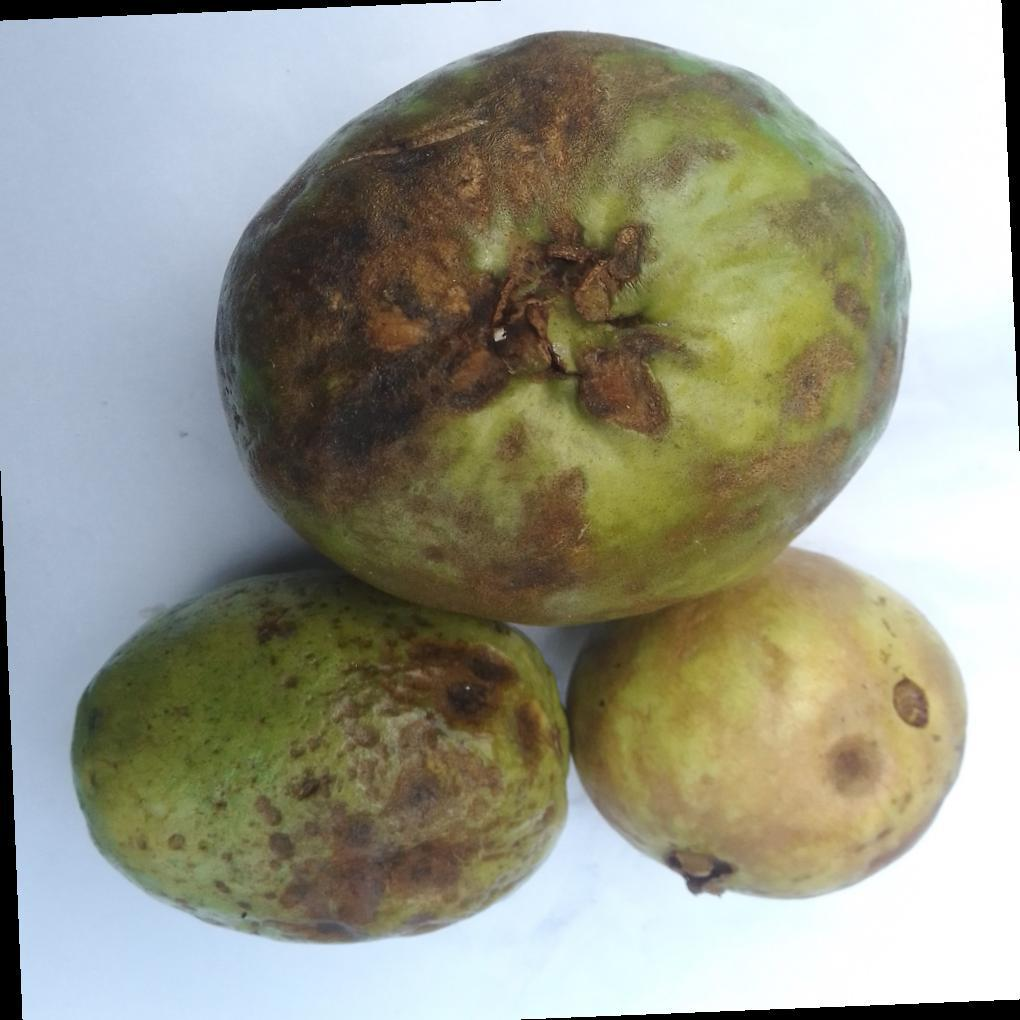FreshOrange: (69, 32, 968, 949)
